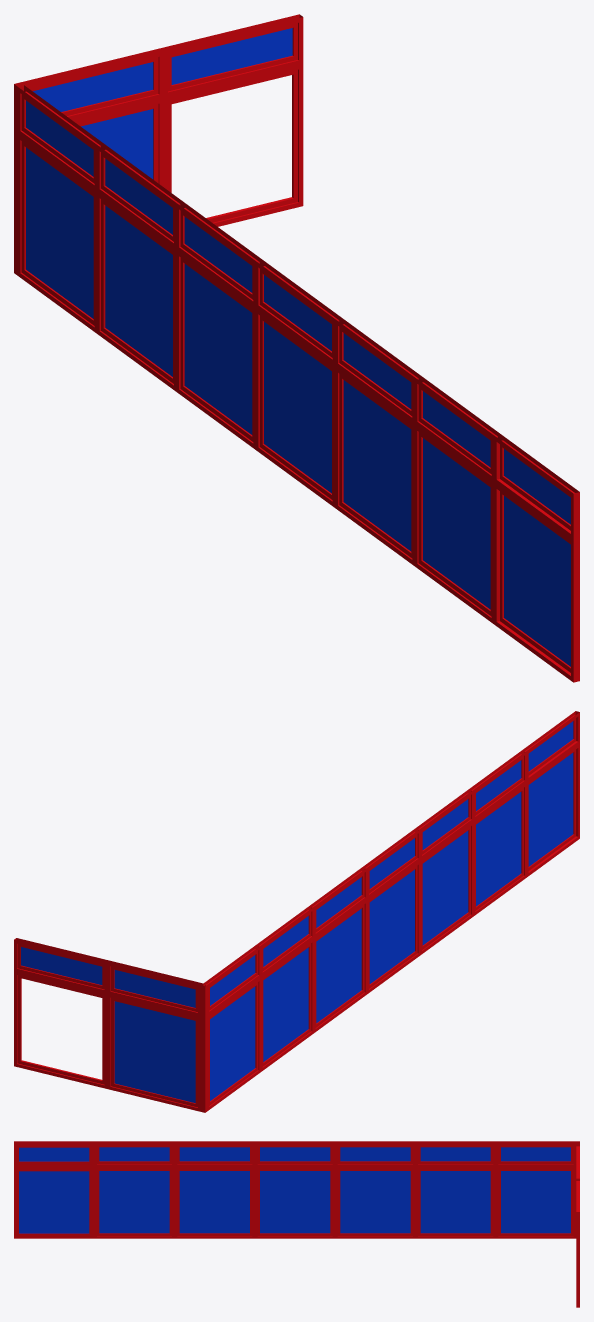
Rendered from wall02.fbx.
The picture shows the model from 3 angles, top to bottom: view 1: azimuth 30°, elevation 25°; view 2: azimuth 150°, elevation 25°; view 3: azimuth 270°, elevation 25°; orthographic projection. The views are drawn at different scales.
Parts seen in each view (by area): view 1: Plane.008; view 2: Plane.008; view 3: Plane.008.
Boxes of the visible parts, x1=… form: Plane.008: x1=14, y1=14, x2=579, y2=682; Plane.008: x1=14, y1=711, x2=579, y2=1112; Plane.008: x1=14, y1=1141, x2=579, y2=1307.
Size of the model in its own units: 890 by 563 by 3020.
